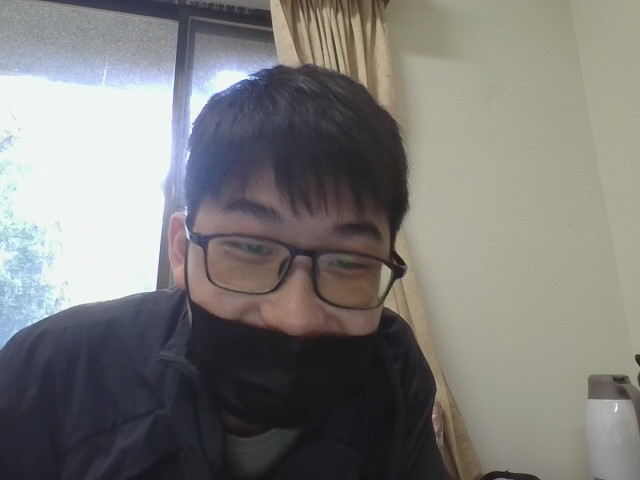No_Helmet: (162, 54, 417, 341)
person: (0, 39, 582, 479)
